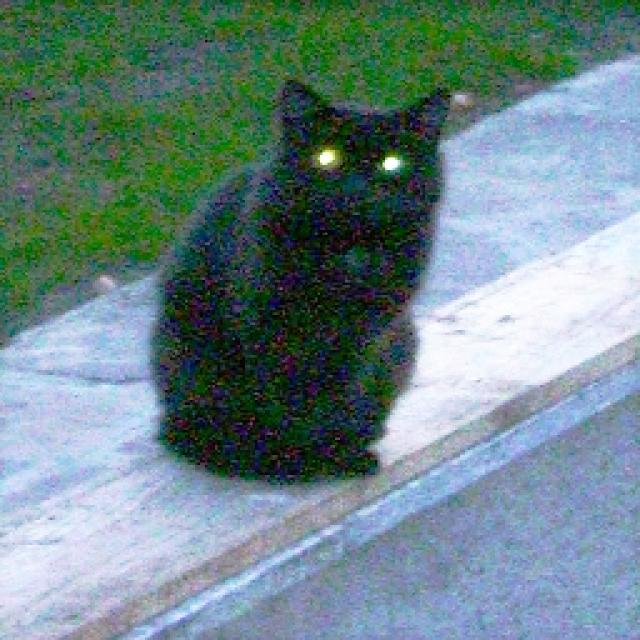cat: (149, 74, 456, 500)
